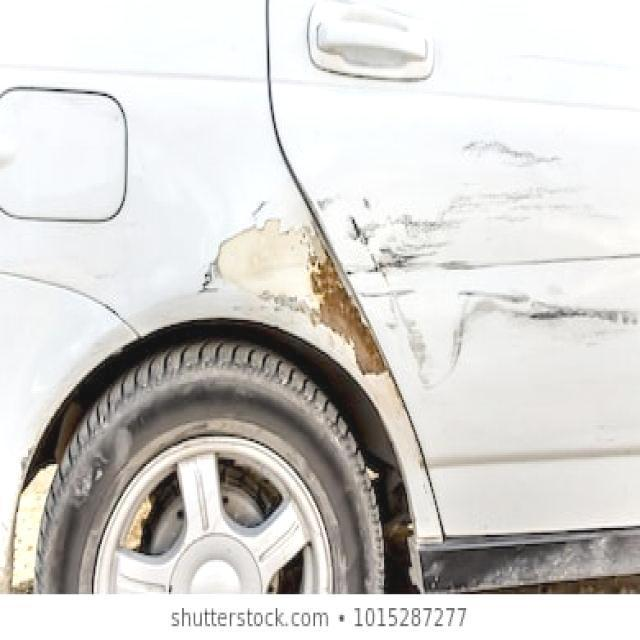minor: (464, 134, 598, 172)
moderate: (177, 168, 408, 431), (383, 265, 634, 385), (349, 216, 479, 270)
